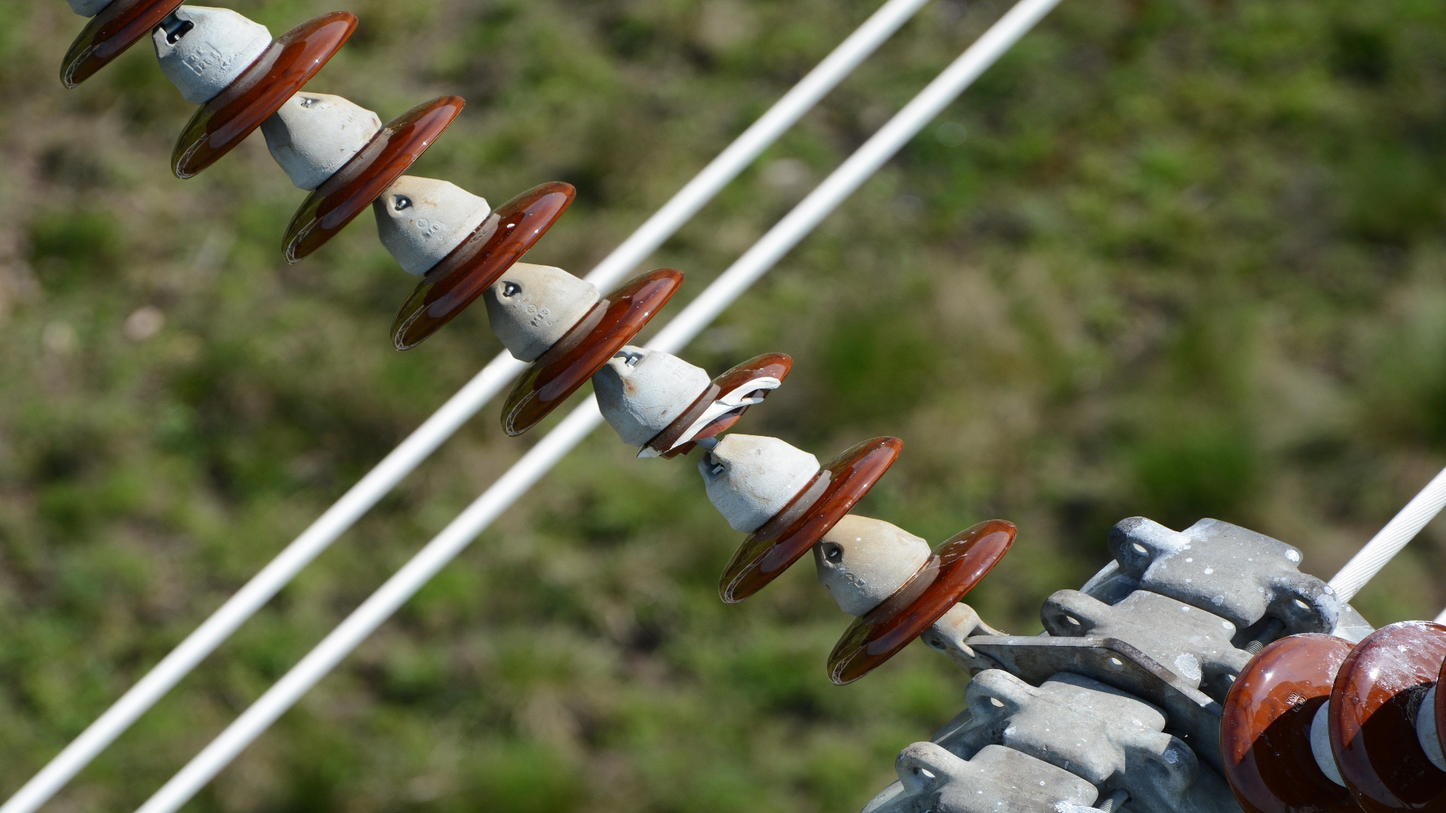insulator: (54, 1, 1023, 695), (1212, 611, 1446, 813)
